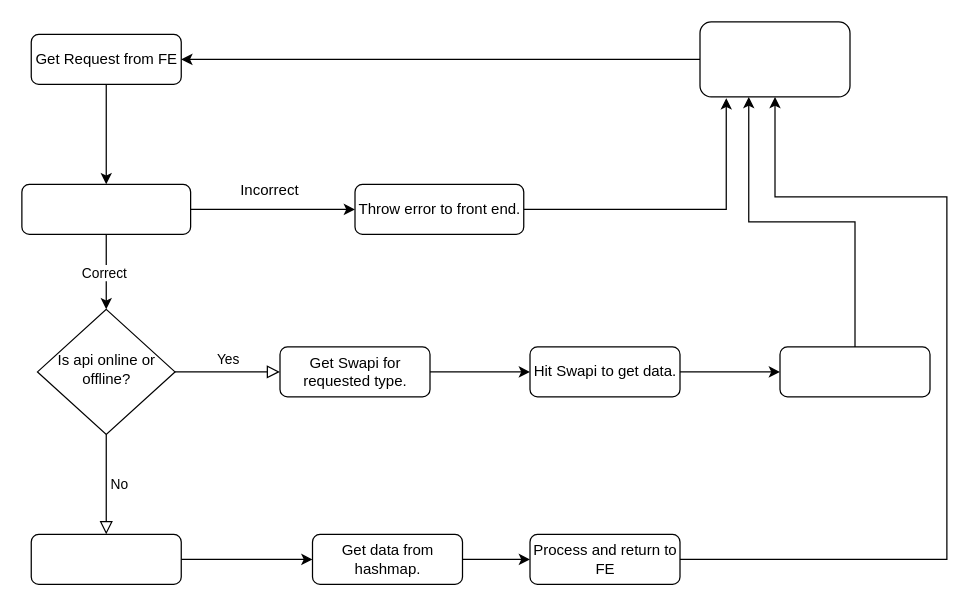
Image size: 979x606. Some labels were removed from this diagram. Here are the shapes that lost their labels. From the top down, the centre of each, then its label:
(774,59): Front End
(106,208): Check if input parameters are correct.
(854,371): Process and return data to FE
(105,558): Get Hashmap for Requested Type
